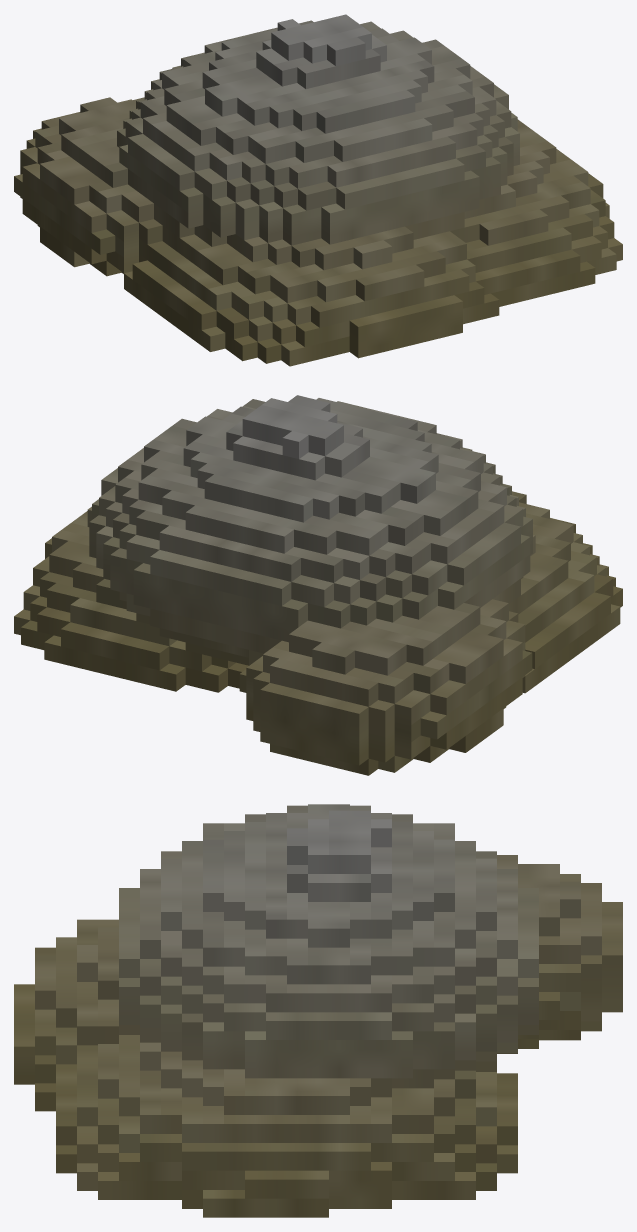
Rendered from Pierre type 3.fbx.
3 renders of one model, top to bottom at view 1: azimuth 30°, elevation 25°; view 2: azimuth 150°, elevation 25°; view 3: azimuth 270°, elevation 25°, orthographic. The views are drawn at different scales.
Visible parts, largest first — view 1: Matrix_1; view 2: Matrix_1; view 3: Matrix_1.
Boxes of the visible parts, <box> form: Matrix_1: <box>14,14,622,366</box>; Matrix_1: <box>14,395,622,775</box>; Matrix_1: <box>14,804,622,1217</box>.
Bounding box in the file's own units: 30 × 13 × 29.
